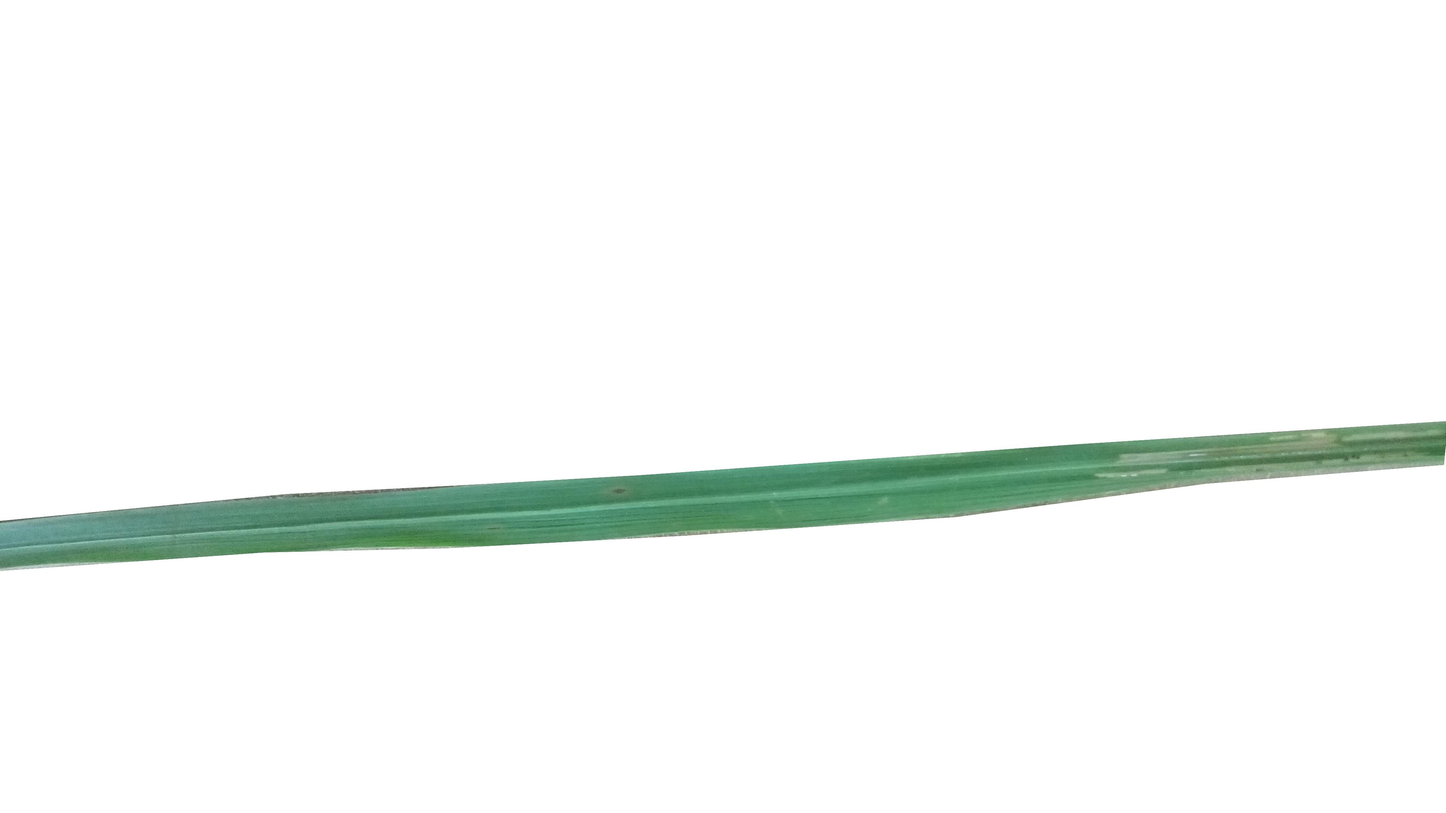Brown spot: (608, 483, 629, 499)
